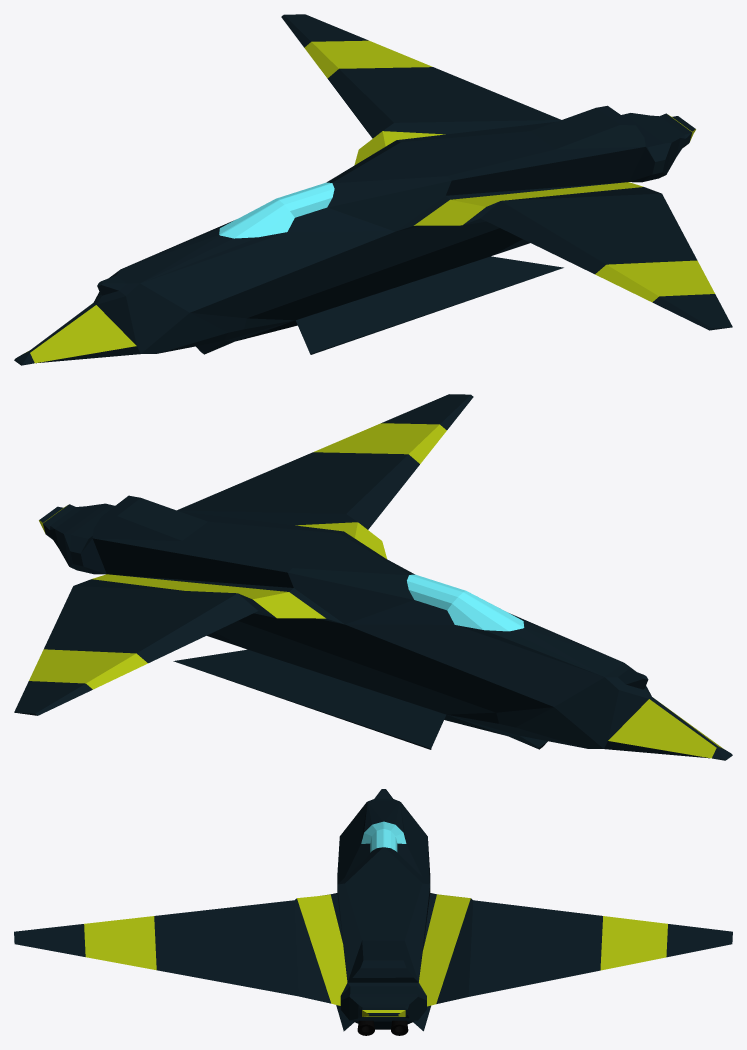
Rendered from ship_2.fbx.
The picture shows the model from 3 angles, top to bottom: view 1: azimuth 30°, elevation 25°; view 2: azimuth 150°, elevation 25°; view 3: azimuth 270°, elevation 25°; orthographic projection. The views are drawn at different scales.
Visible parts, largest first — view 1: Ship_enemy; view 2: Ship_enemy; view 3: Ship_enemy.
Part boxes in pixels (box(x1,y1,x2,y2)): Ship_enemy: box(14, 14, 732, 365); Ship_enemy: box(14, 394, 732, 760); Ship_enemy: box(14, 789, 732, 1035).
Size of the model in its own units: 467 by 93.42 by 517.
